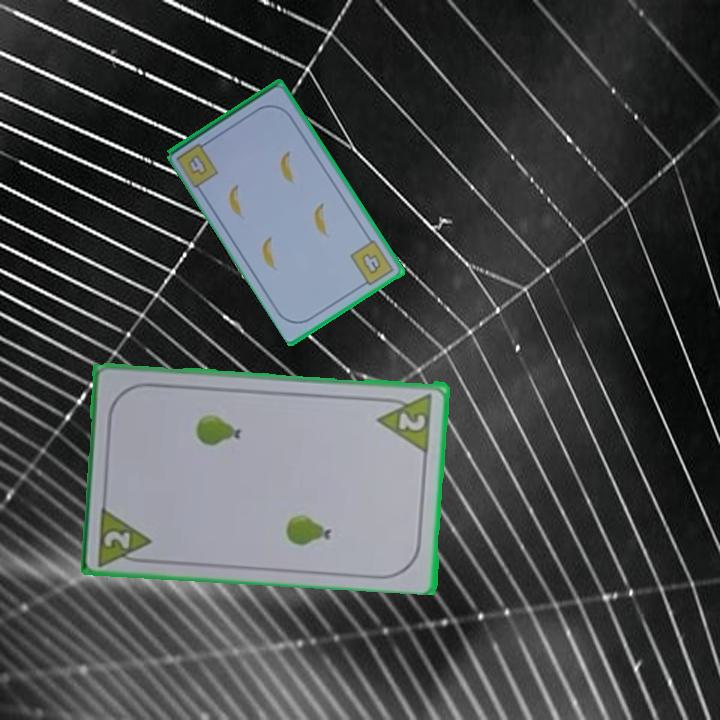2p: (94, 501, 155, 567), (395, 408, 429, 433)
4b: (347, 236, 397, 290), (184, 151, 210, 179)
